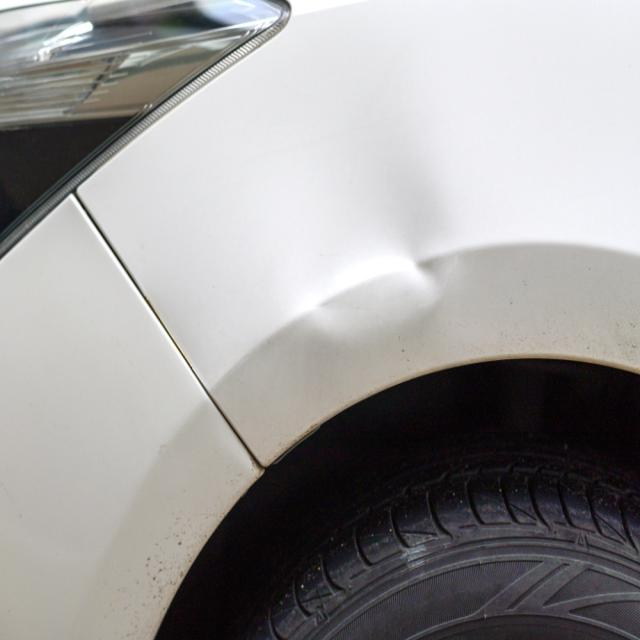dent: (274, 105, 456, 335)
